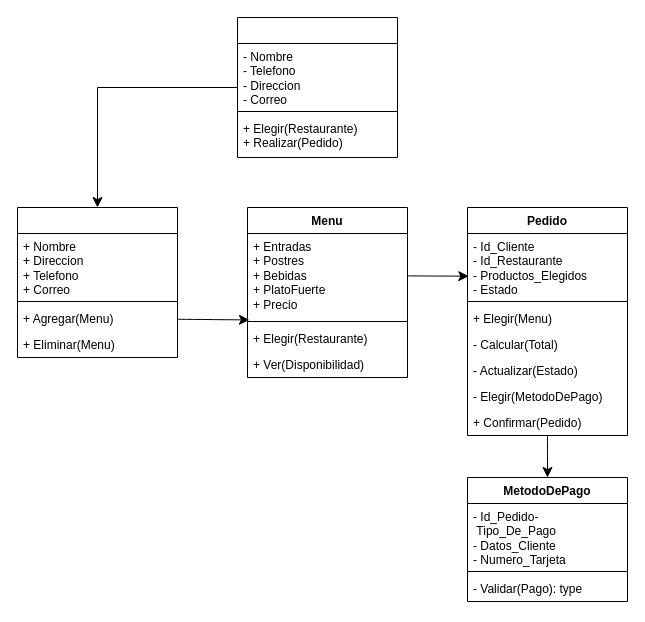
Some shapes in this 645 by 622 pixel diagram are drawn without their labels. The box of each missing label's shape, as (x1, y1, x2, y2) in pixels:
Cliente: (236, 16, 398, 158)
Restaurante: (16, 206, 178, 358)
